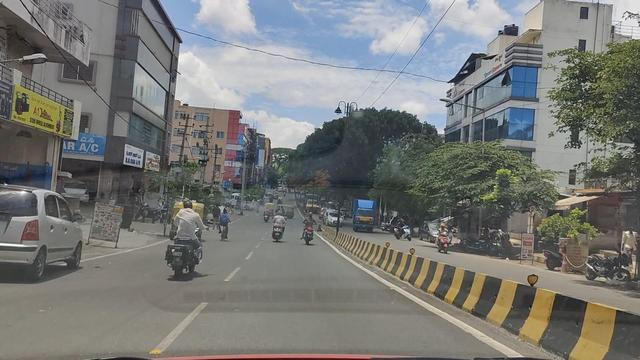LMV: (2, 184, 86, 279), (140, 186, 205, 278)
